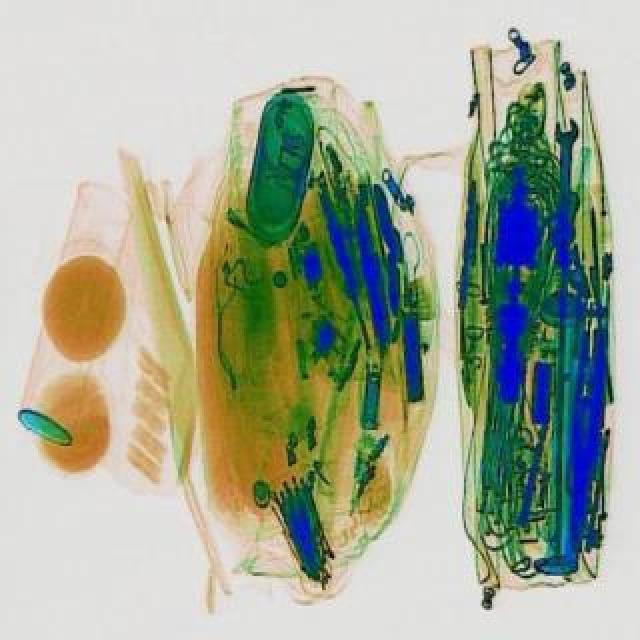scissors: (552, 114, 580, 242)
wrench: (558, 326, 610, 550)
